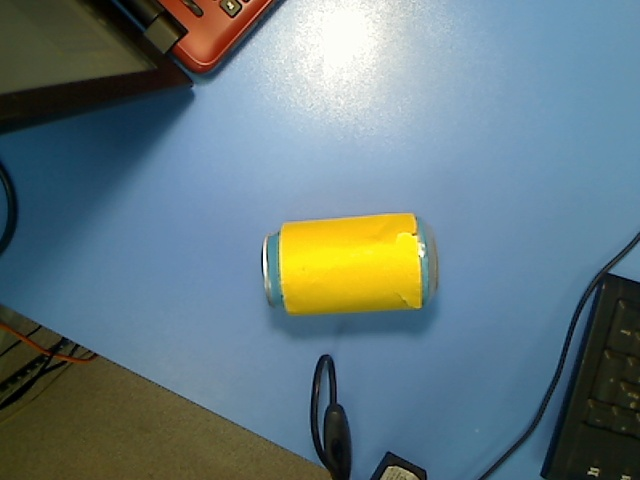can: (260, 211, 441, 319)
